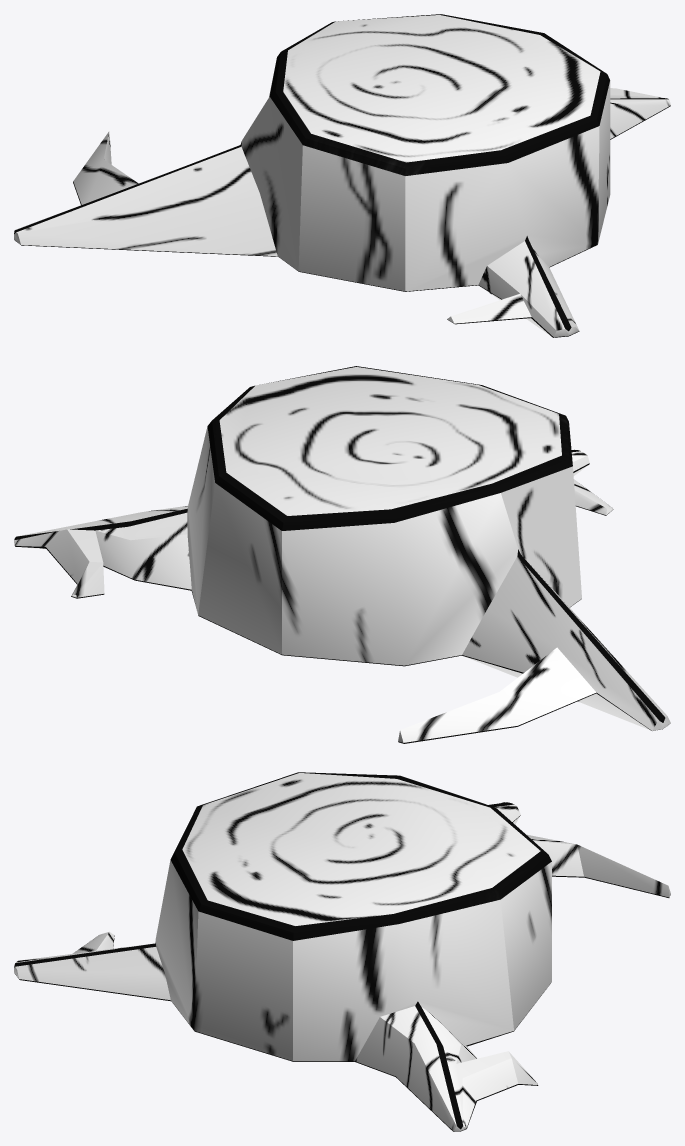
The model's file is TrunkBase.fbx.
3 views of the same model, one above another, from view 1: azimuth 30°, elevation 25°; view 2: azimuth 150°, elevation 25°; view 3: azimuth 270°, elevation 25° (orthographic). The views are drawn at different scales.
Visible parts, largest first — view 1: Cylinder.002; view 2: Cylinder.002; view 3: Cylinder.002.
Part boxes in pixels (bbox=[...]): Cylinder.002: bbox=[14, 14, 670, 337]; Cylinder.002: bbox=[14, 366, 670, 743]; Cylinder.002: bbox=[14, 772, 670, 1131].
Bounding box in the file's own units: 3.84 × 0.7979 × 3.32.
